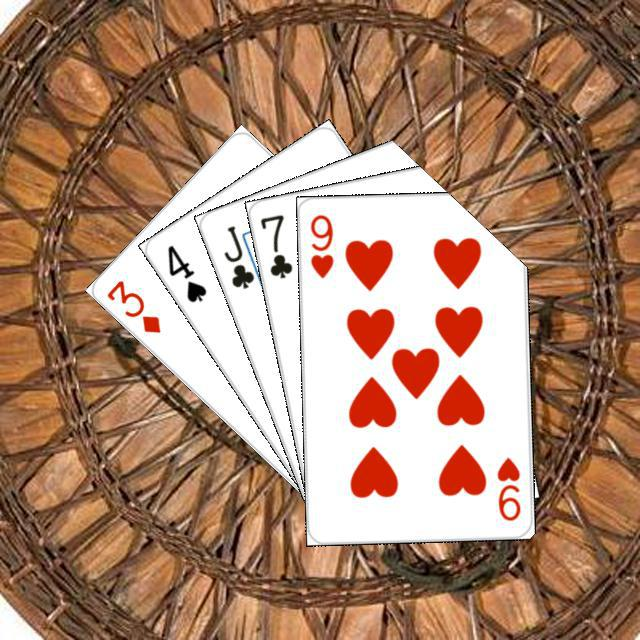3d: (102, 275, 163, 335)
4s: (162, 240, 209, 305)
7c: (255, 209, 294, 281)
9h: (492, 452, 523, 523), (305, 209, 335, 280)
Jc: (218, 220, 257, 291)
